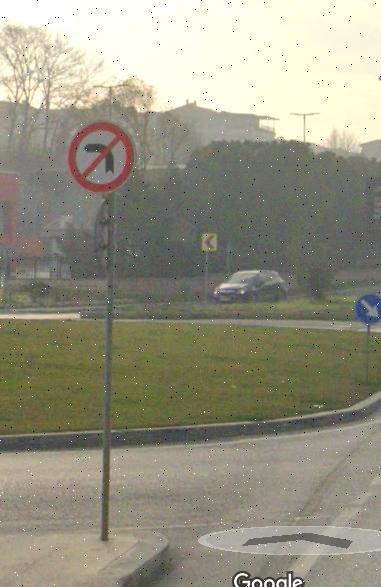leftturnsareforbidden: (68, 121, 135, 193)
